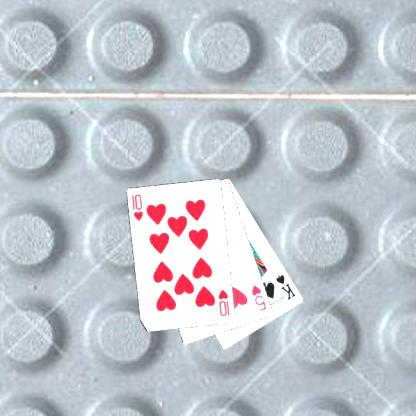10H: (128, 191, 144, 223), (216, 287, 231, 318)
5H: (249, 282, 267, 313)
KS: (272, 272, 298, 302)
